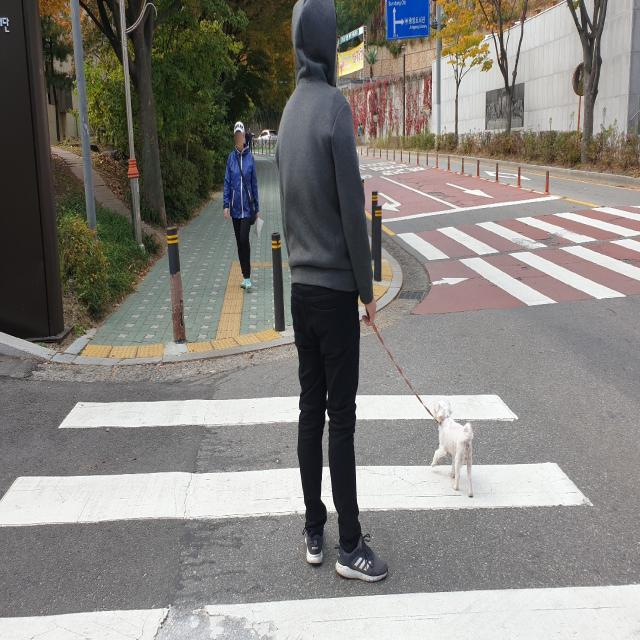횡단보도: (0, 386, 640, 640), (396, 217, 640, 309)
